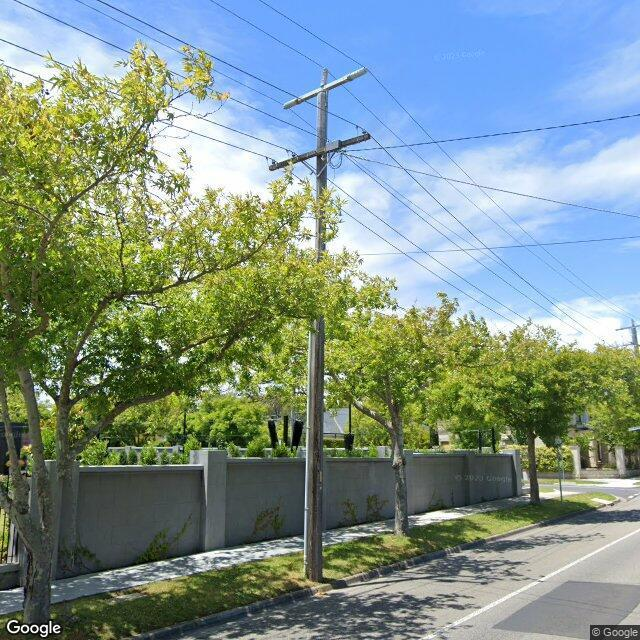HV-transmission: (283, 66, 367, 110)
crossarm: (269, 133, 370, 171), (297, 74, 351, 102), (615, 324, 640, 331)
timber-pole: (308, 90, 328, 581), (632, 319, 638, 345)
